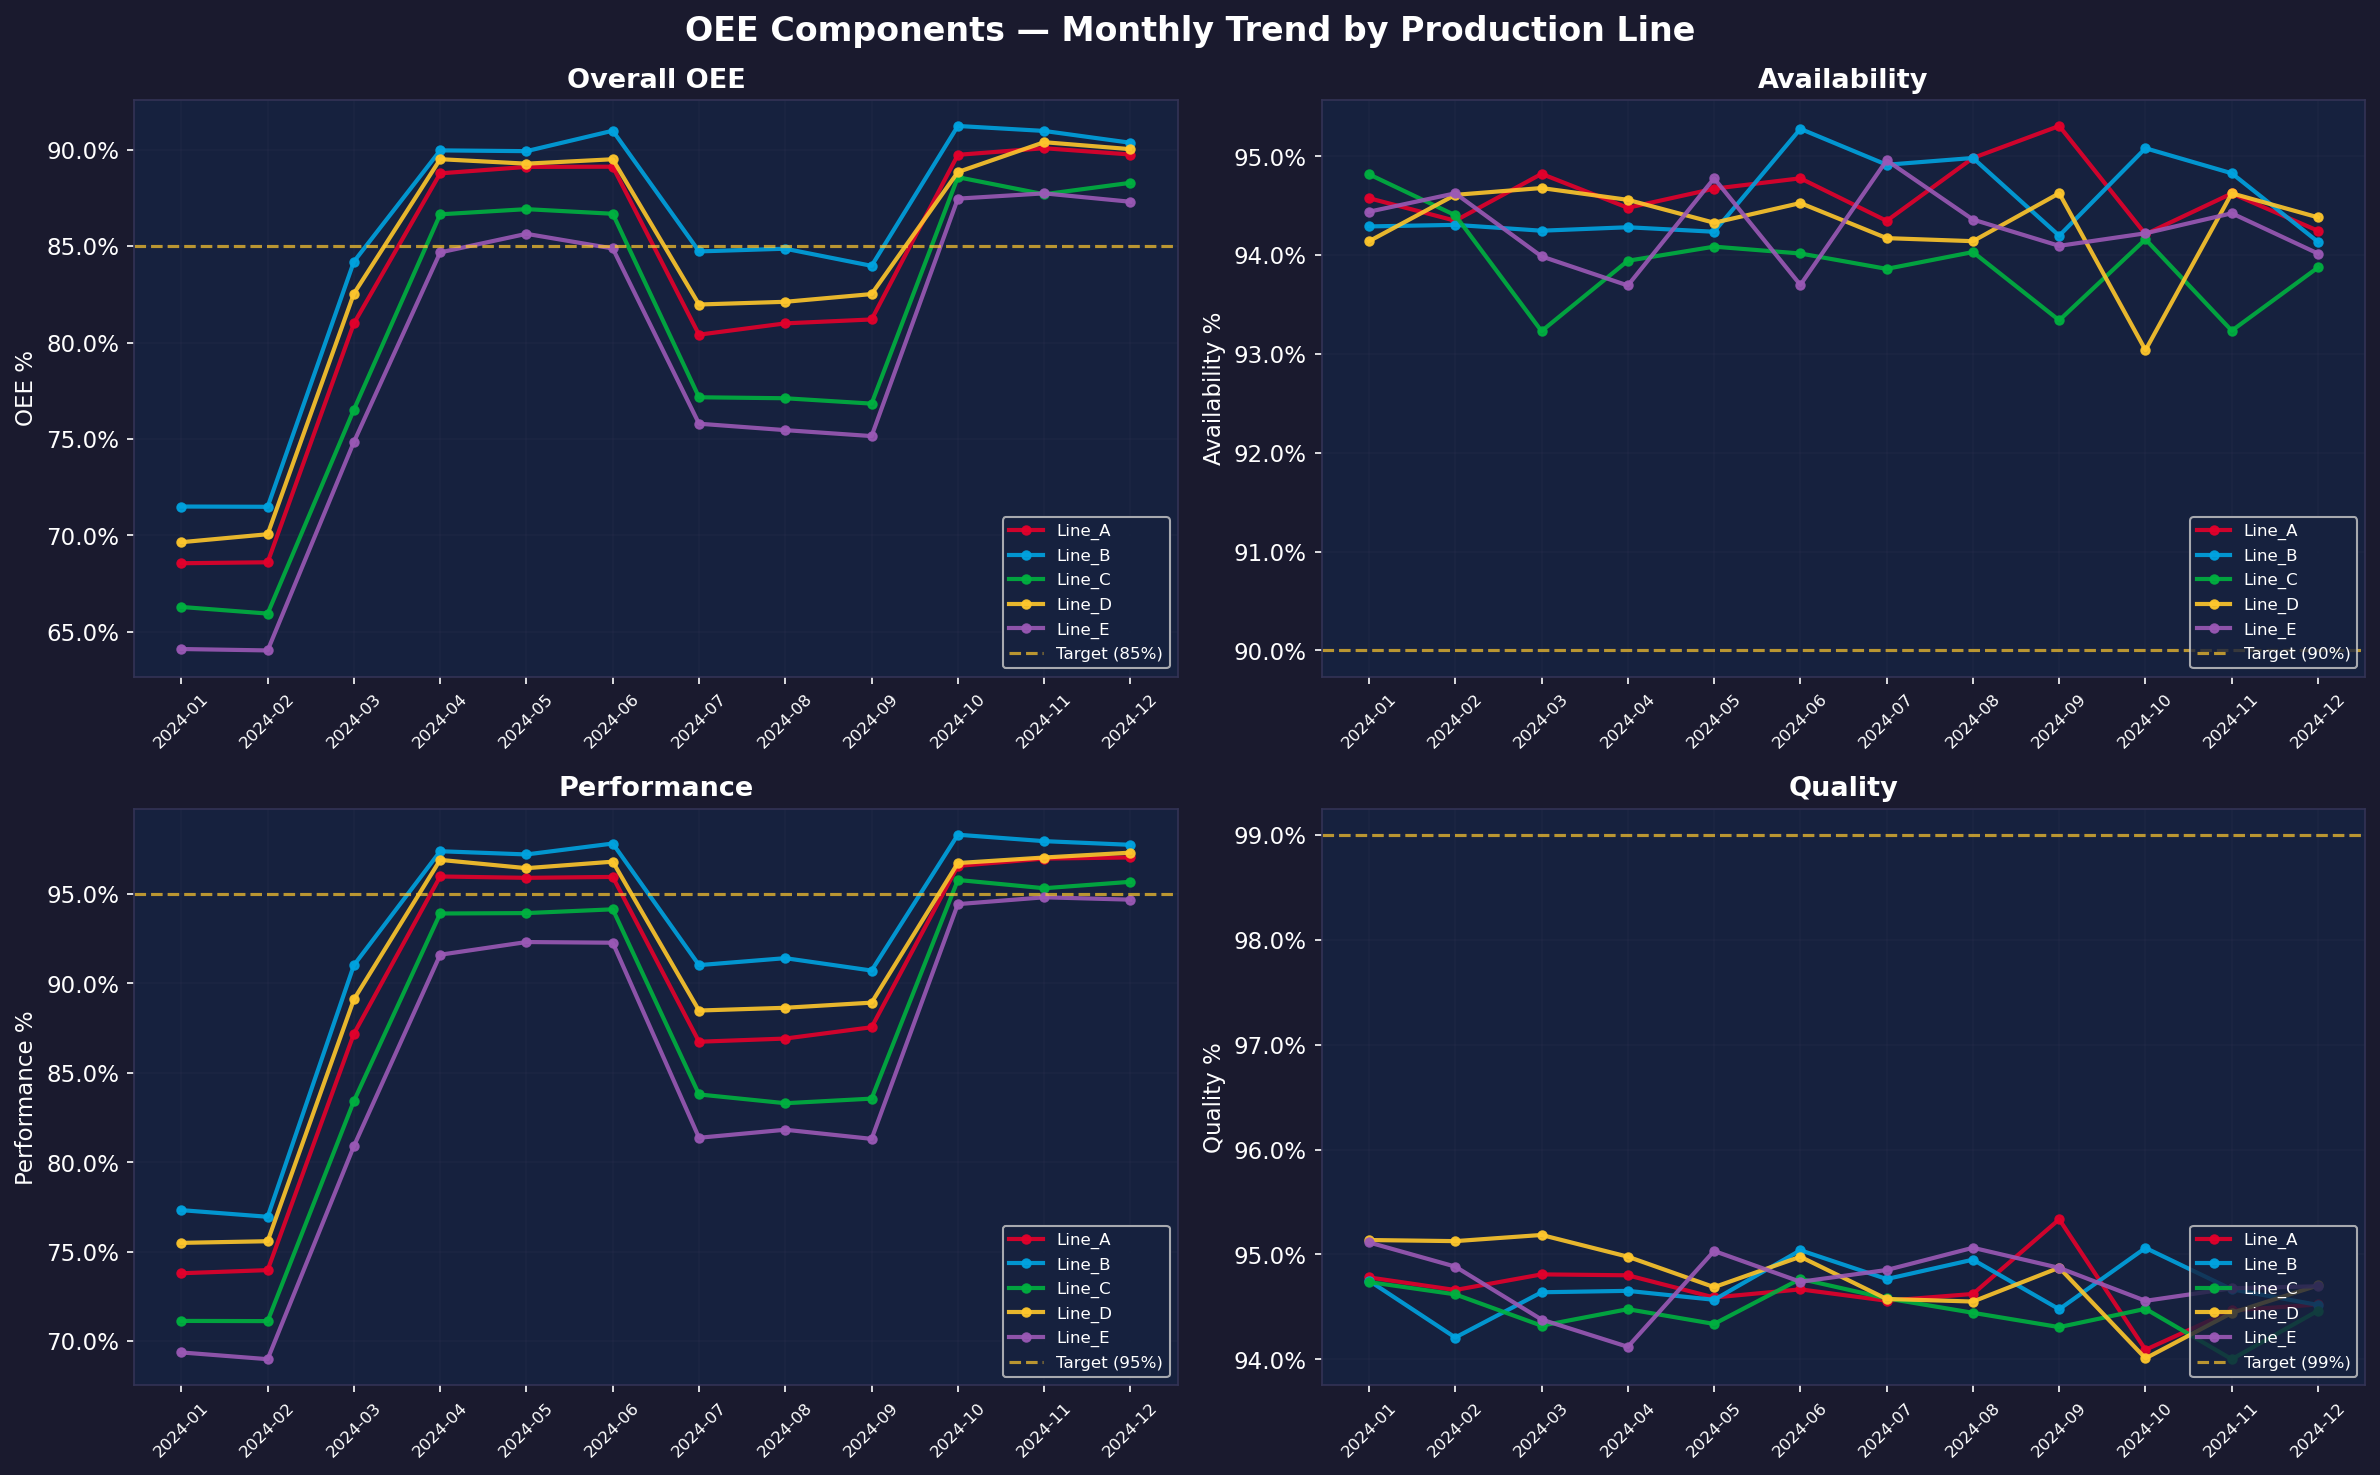

Layout of this report page (visuals, bound fields, positions):
{"tool":"powerbi","page":{"name":"3. OEE Component Trends","canvas":[1920,1080],"ordinal":2},"visuals":[{"type":"image","box":[60,20,1800,1040],"z":100}]}

Visuals, with their boxes on the page's 1920x1080 design canvas (x1, y1, x2, y2). These are canvas units, not pixel positions in the 2380x1475 screenshot, which may show the page scaled, cropped or inside an application window:
image: BBox(60, 20, 1860, 1060)
